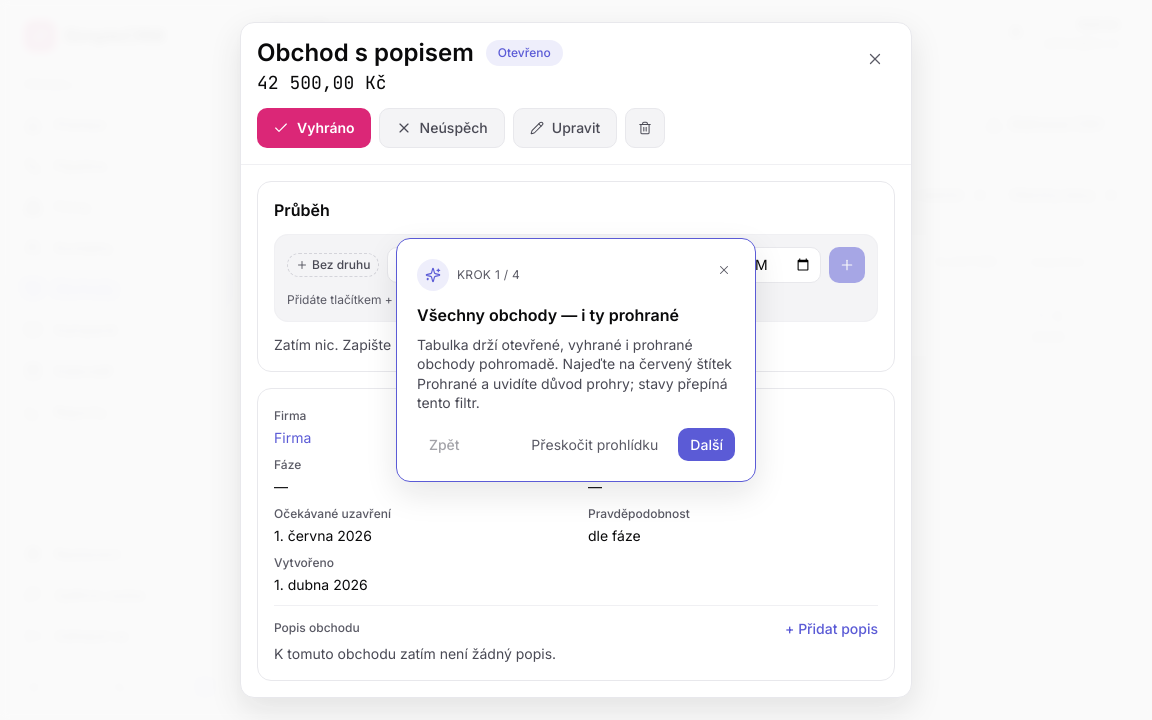
Test: Deals list + detail › edits the standing deal description and keeps it distinct from timeline notes
Expected: the text "Popis obchodu + Přidat popis" is shown, [274,618,878,639]
Expected: the text "K tomuto obchodu zatím není žádný popis." is shown, [274,645,556,662]
Click the button with test id "deals-detail-note-edit".
click(832, 628)  # box [785,618,878,639]
(page scrolled)
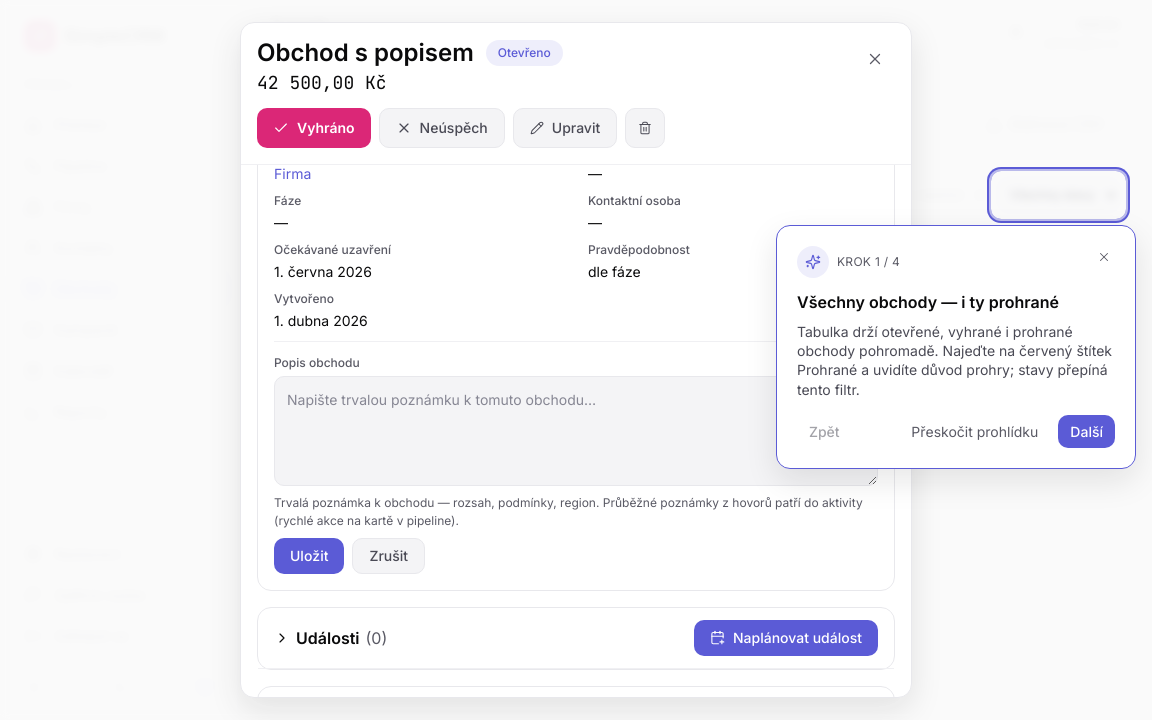
Type "Region: Morava" into the text box with test id "deals-detail-note-input".
click(576, 431); type("Region: Morava")  # box [274,376,878,486]
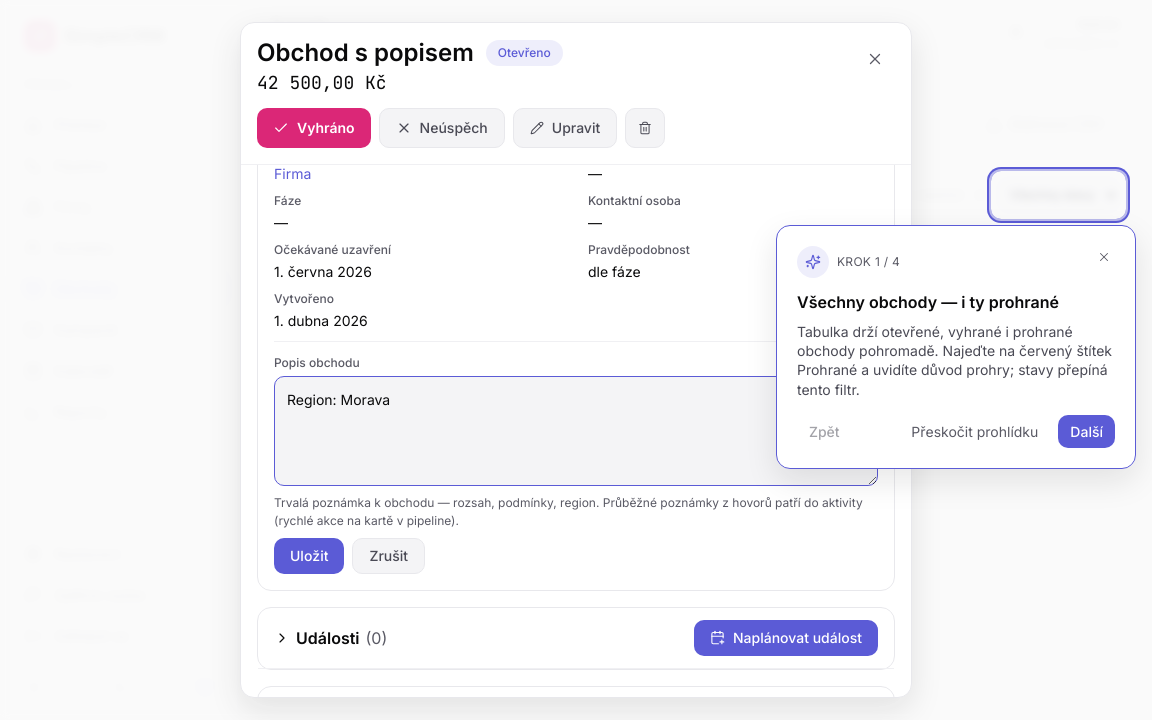
Click the button with test id "deals-detail-note-save".
click(309, 556)  # box [274,538,344,574]
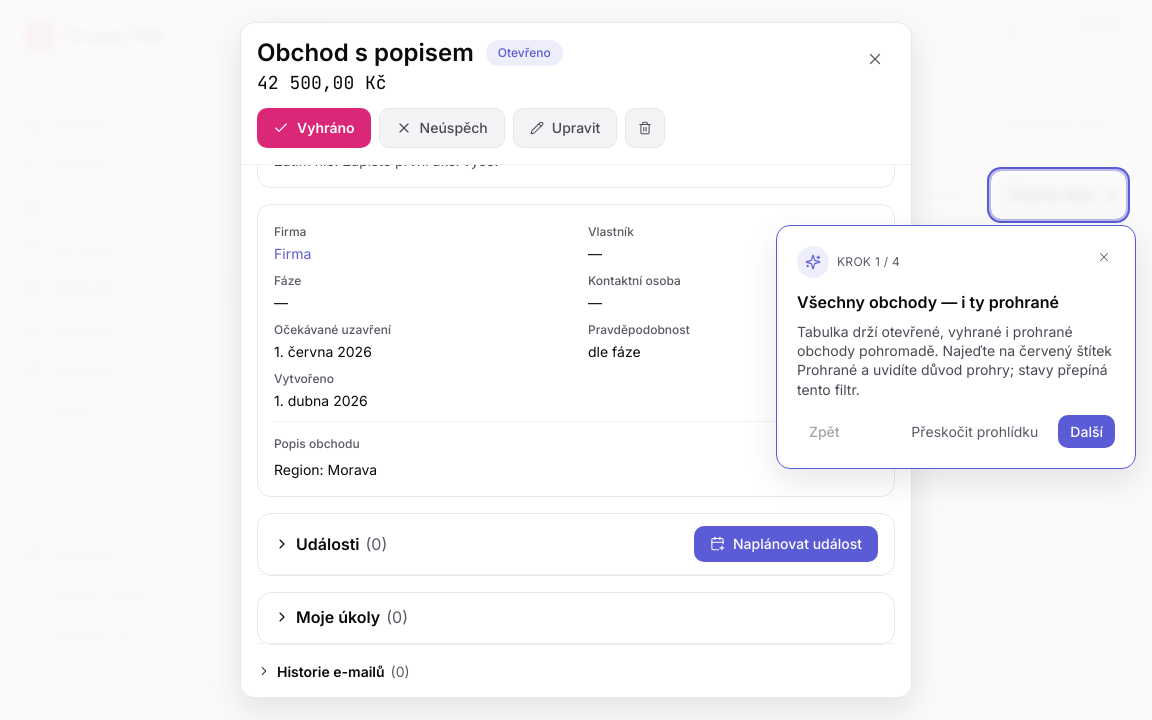
Result: the text "Region: Morava" is shown at [274,461,377,478]
